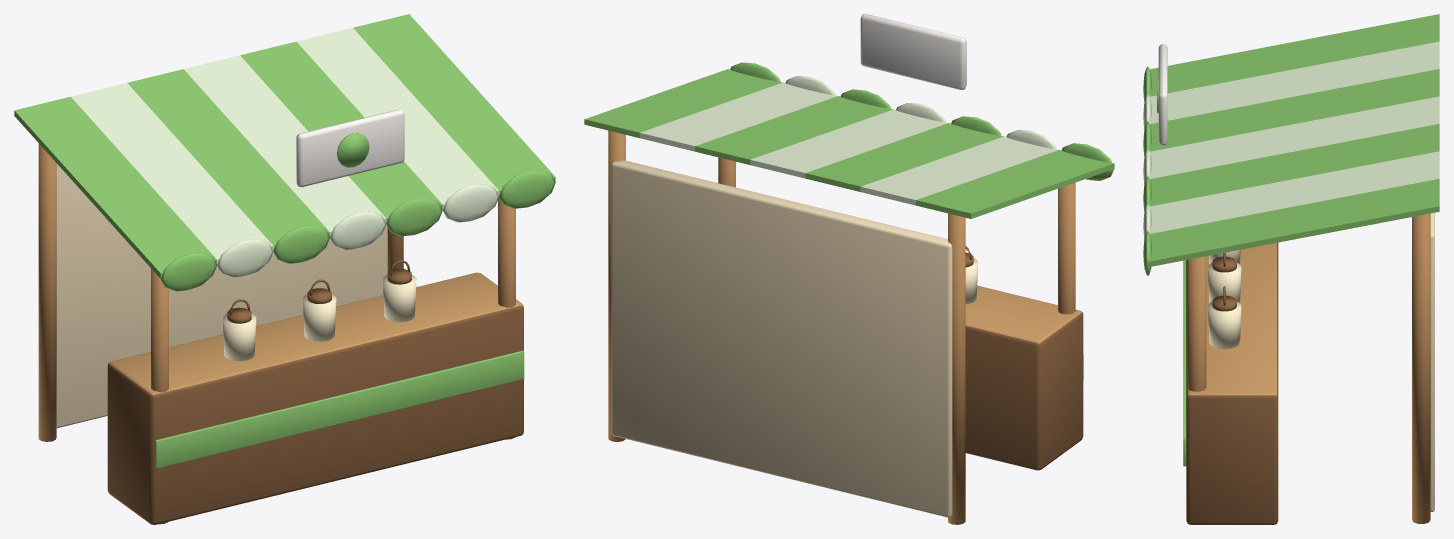
The model's file is festival-booth-lantern.glb.
3 renders of one model, left to right at view 1: azimuth 30°, elevation 25°; view 2: azimuth 150°, elevation 25°; view 3: azimuth 270°, elevation 25°, orthographic. The views are drawn at different scales.
Visible parts, largest first — view 1: booth, goods; view 2: booth, goods; view 3: booth, goods.
Part boxes in pixels (x1=…): booth: x1=14, y1=14, x2=555, y2=524; goods: x1=222, y1=260, x2=416, y2=361; booth: x1=584, y1=14, x2=1114, y2=524; goods: x1=965, y1=246, x2=978, y2=304; booth: x1=1143, y1=14, x2=1439, y2=524; goods: x1=1207, y1=249, x2=1241, y2=348.
Size of the model in its own units: 2.96 by 2.64 by 1.93.
